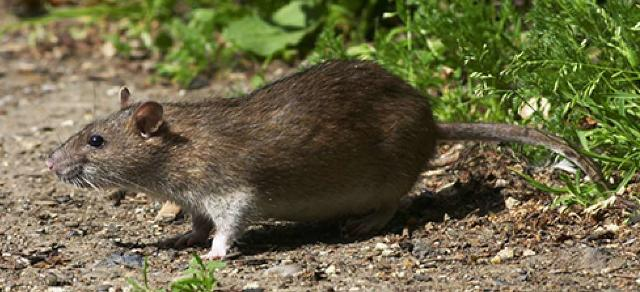rat: (38, 47, 550, 263)
